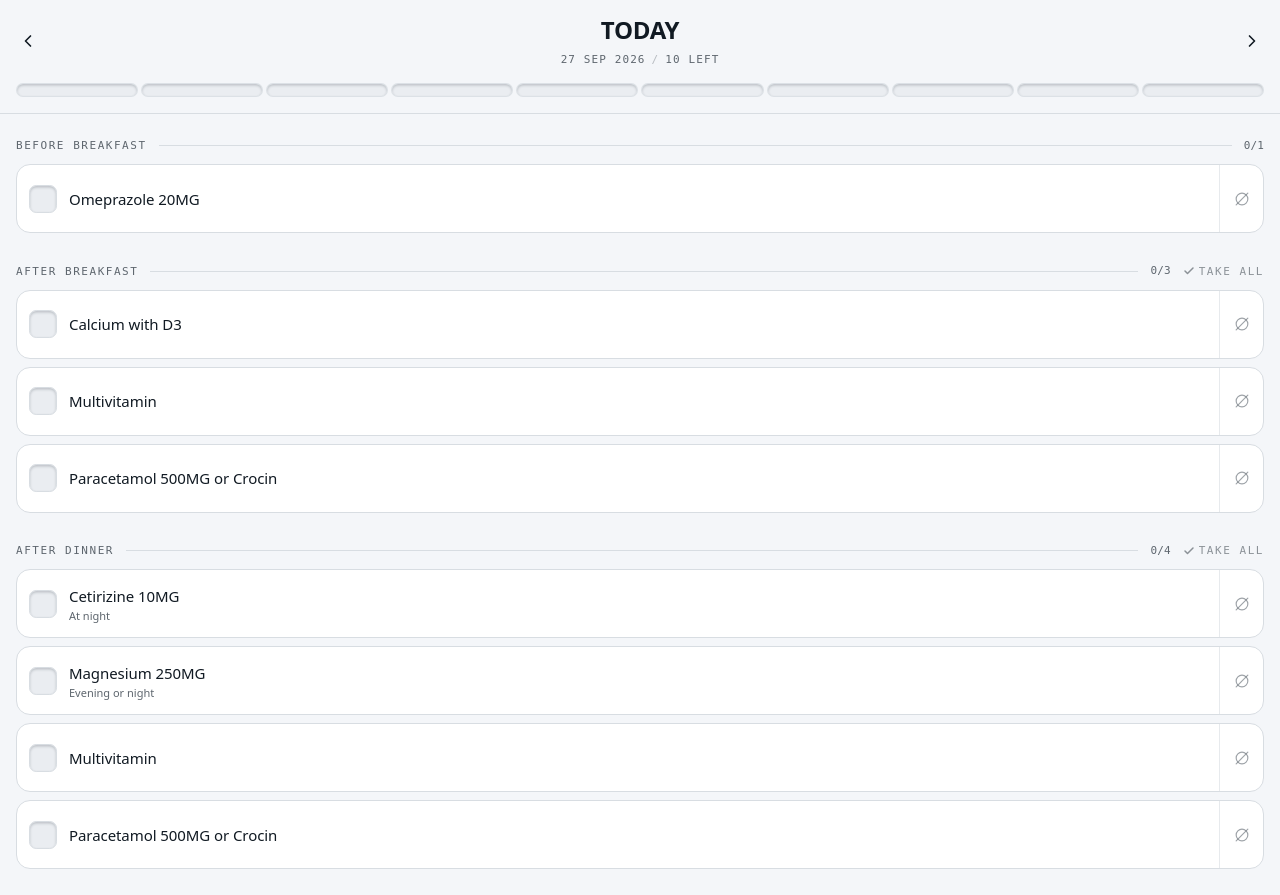
Test: the Today screen › counts a future day as due rather than left
expect the text "10 left" is shown: met, box [665, 53, 719, 66]
Click the button named "next day" at (1252, 41), box [1236, 25, 1268, 57]
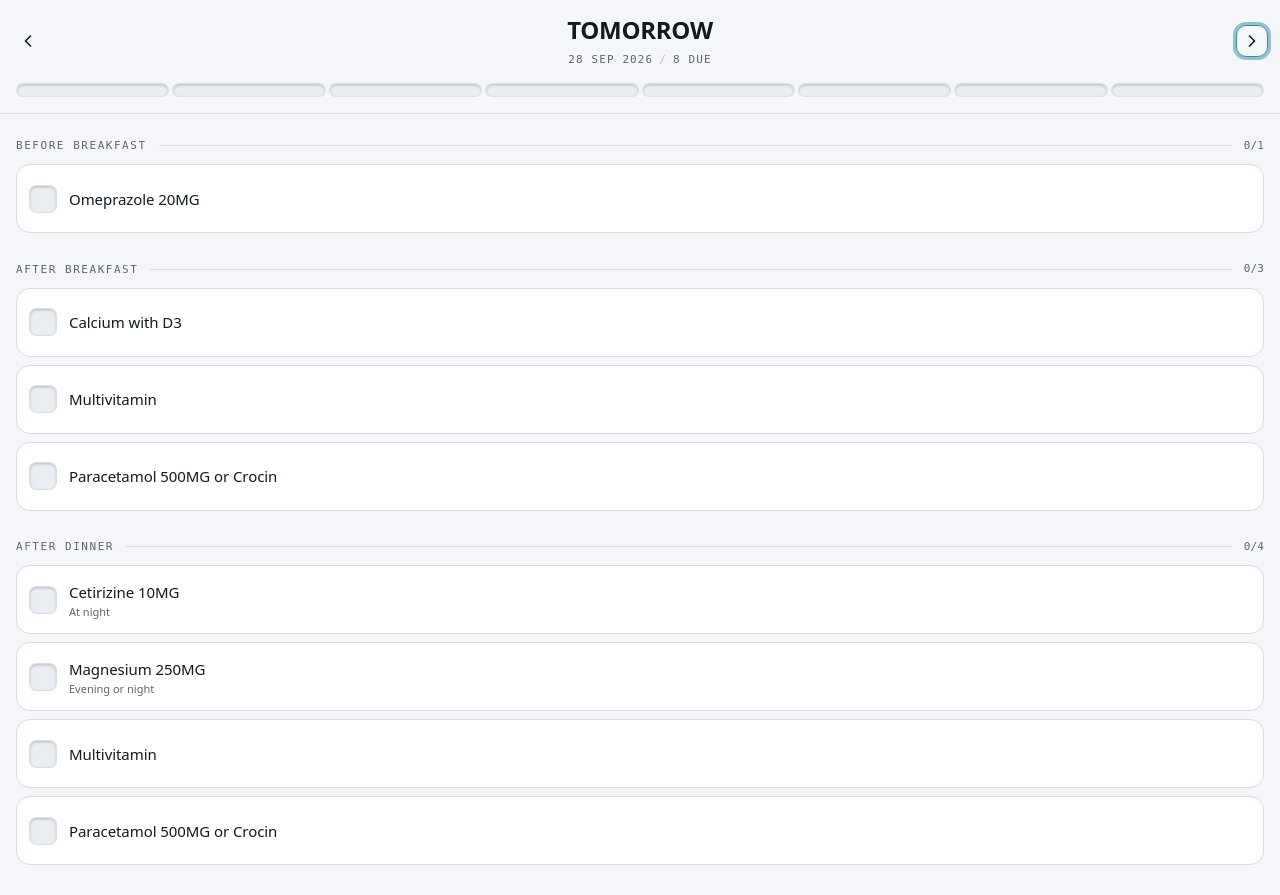
expect the text "8 due" is shown: met, box [673, 53, 712, 66]
